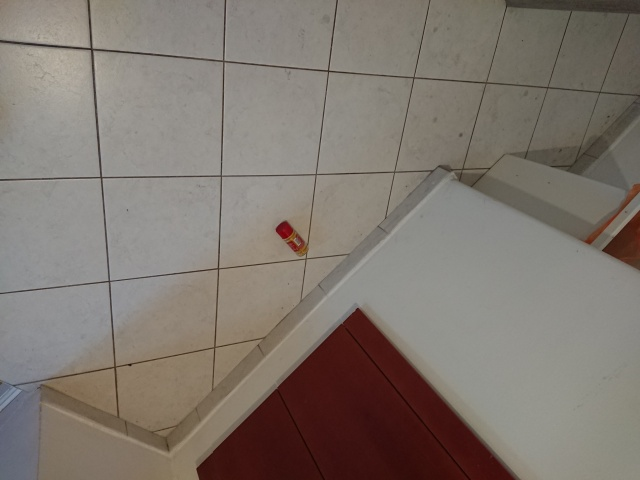Kotanyi Curry Spices Mix 70g: (274, 219, 310, 258)
